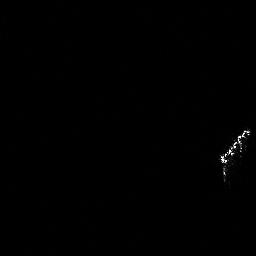ship: (218, 125, 255, 188)
